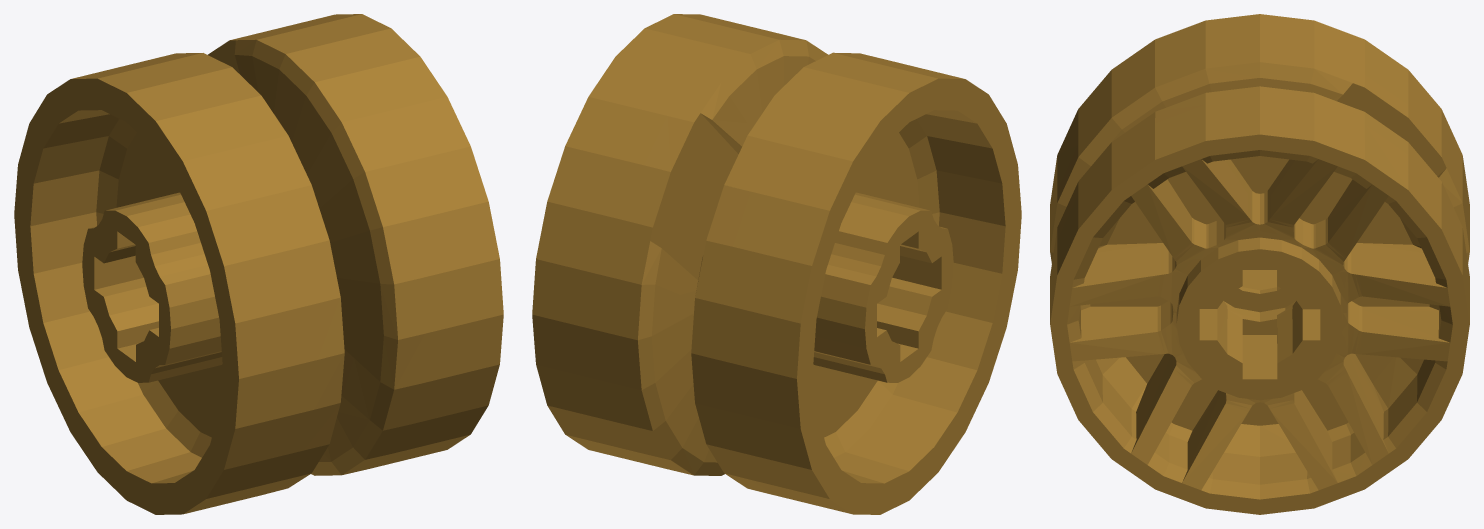
Rendered from wheel.obj.
The picture shows the model from 3 angles, left to right: view 1: azimuth 30°, elevation 25°; view 2: azimuth 150°, elevation 25°; view 3: azimuth 270°, elevation 25°; orthographic projection. The views are drawn at different scales.
Visible parts, largest first — view 1: Part.1; view 2: Part.1; view 3: Part.1.
Part boxes in pixels (x1=…): Part.1: x1=14, y1=14, x2=503, y2=514; Part.1: x1=532, y1=14, x2=1021, y2=514; Part.1: x1=1050, y1=14, x2=1469, y2=514.
Size of the model in its own units: 9.92 by 14.6 by 14.6.
